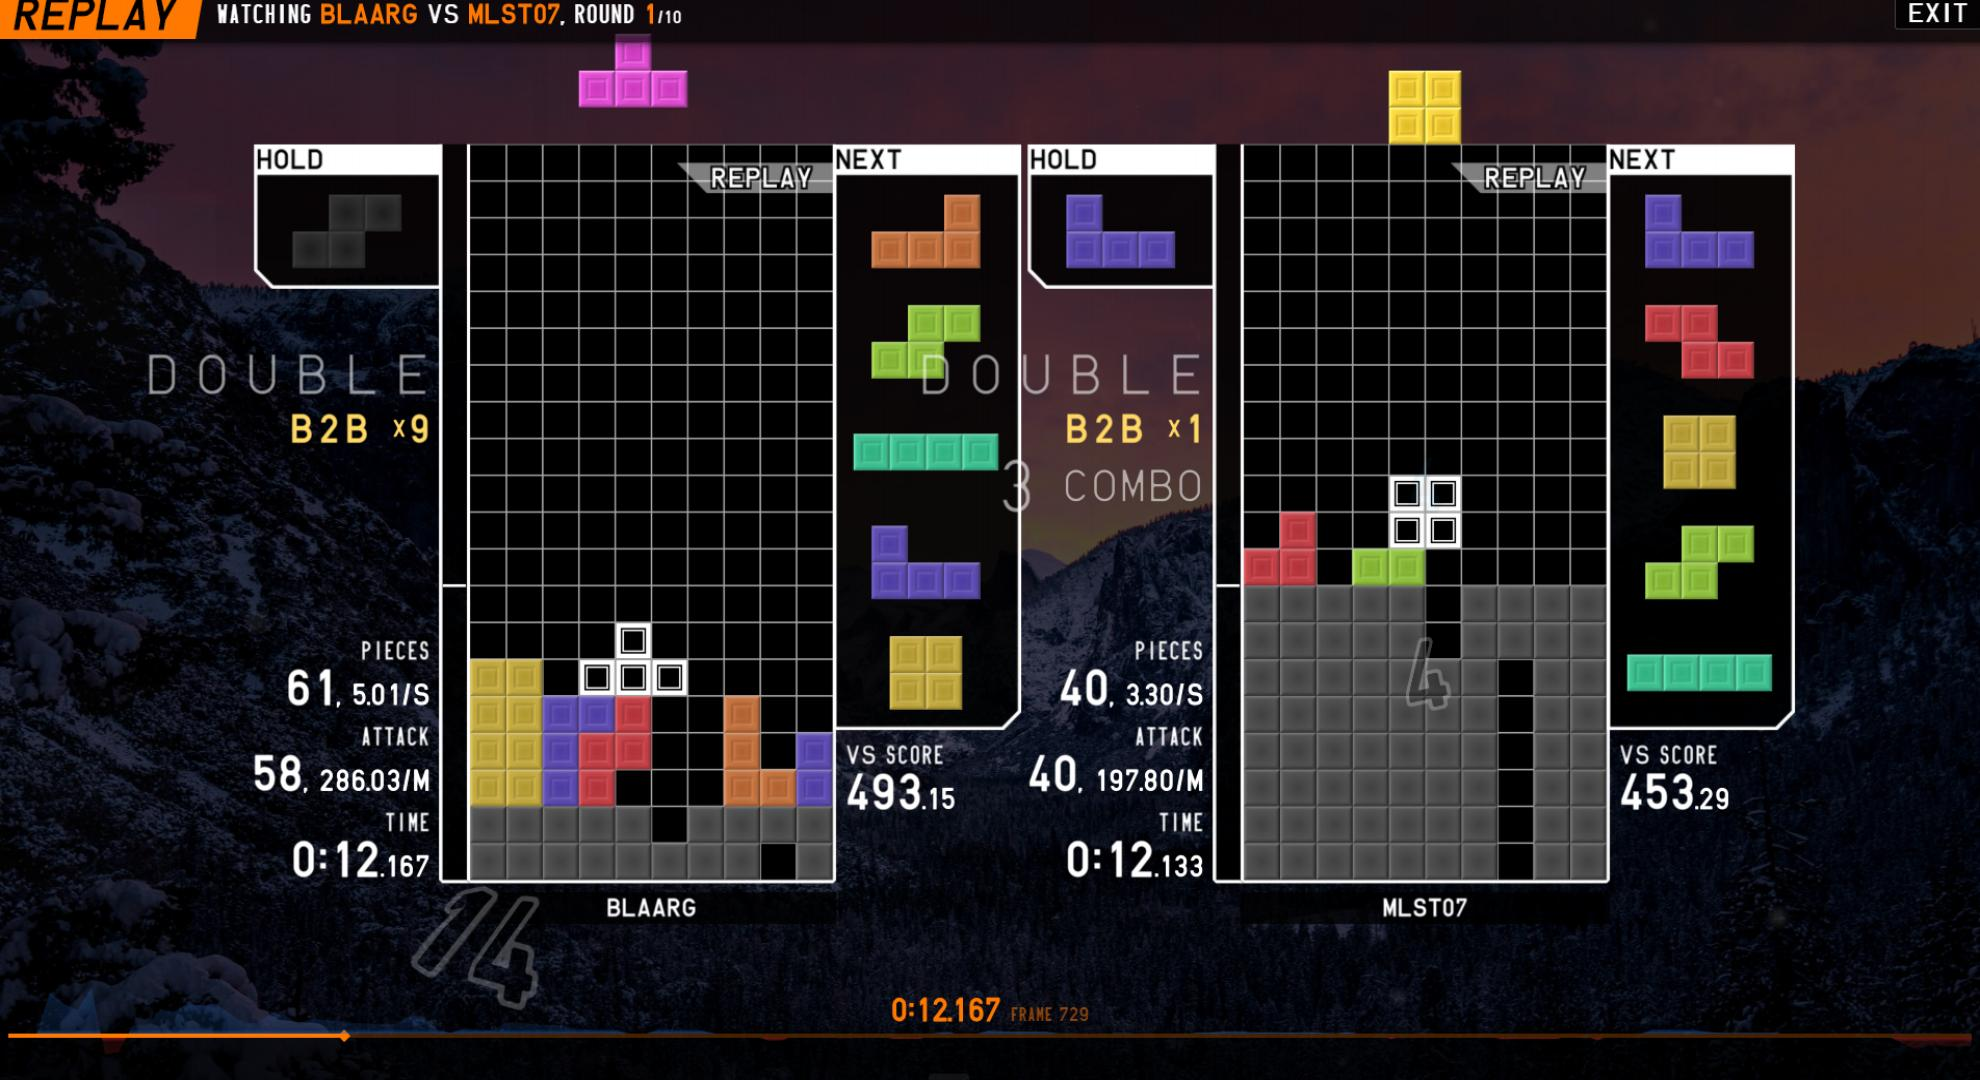tspin: (608, 728, 729, 842)
